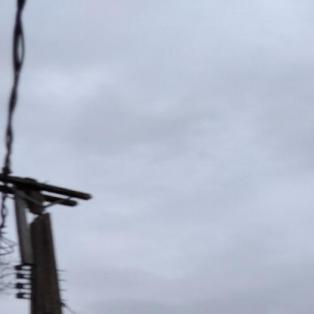Poste: (4, 170, 78, 314)
